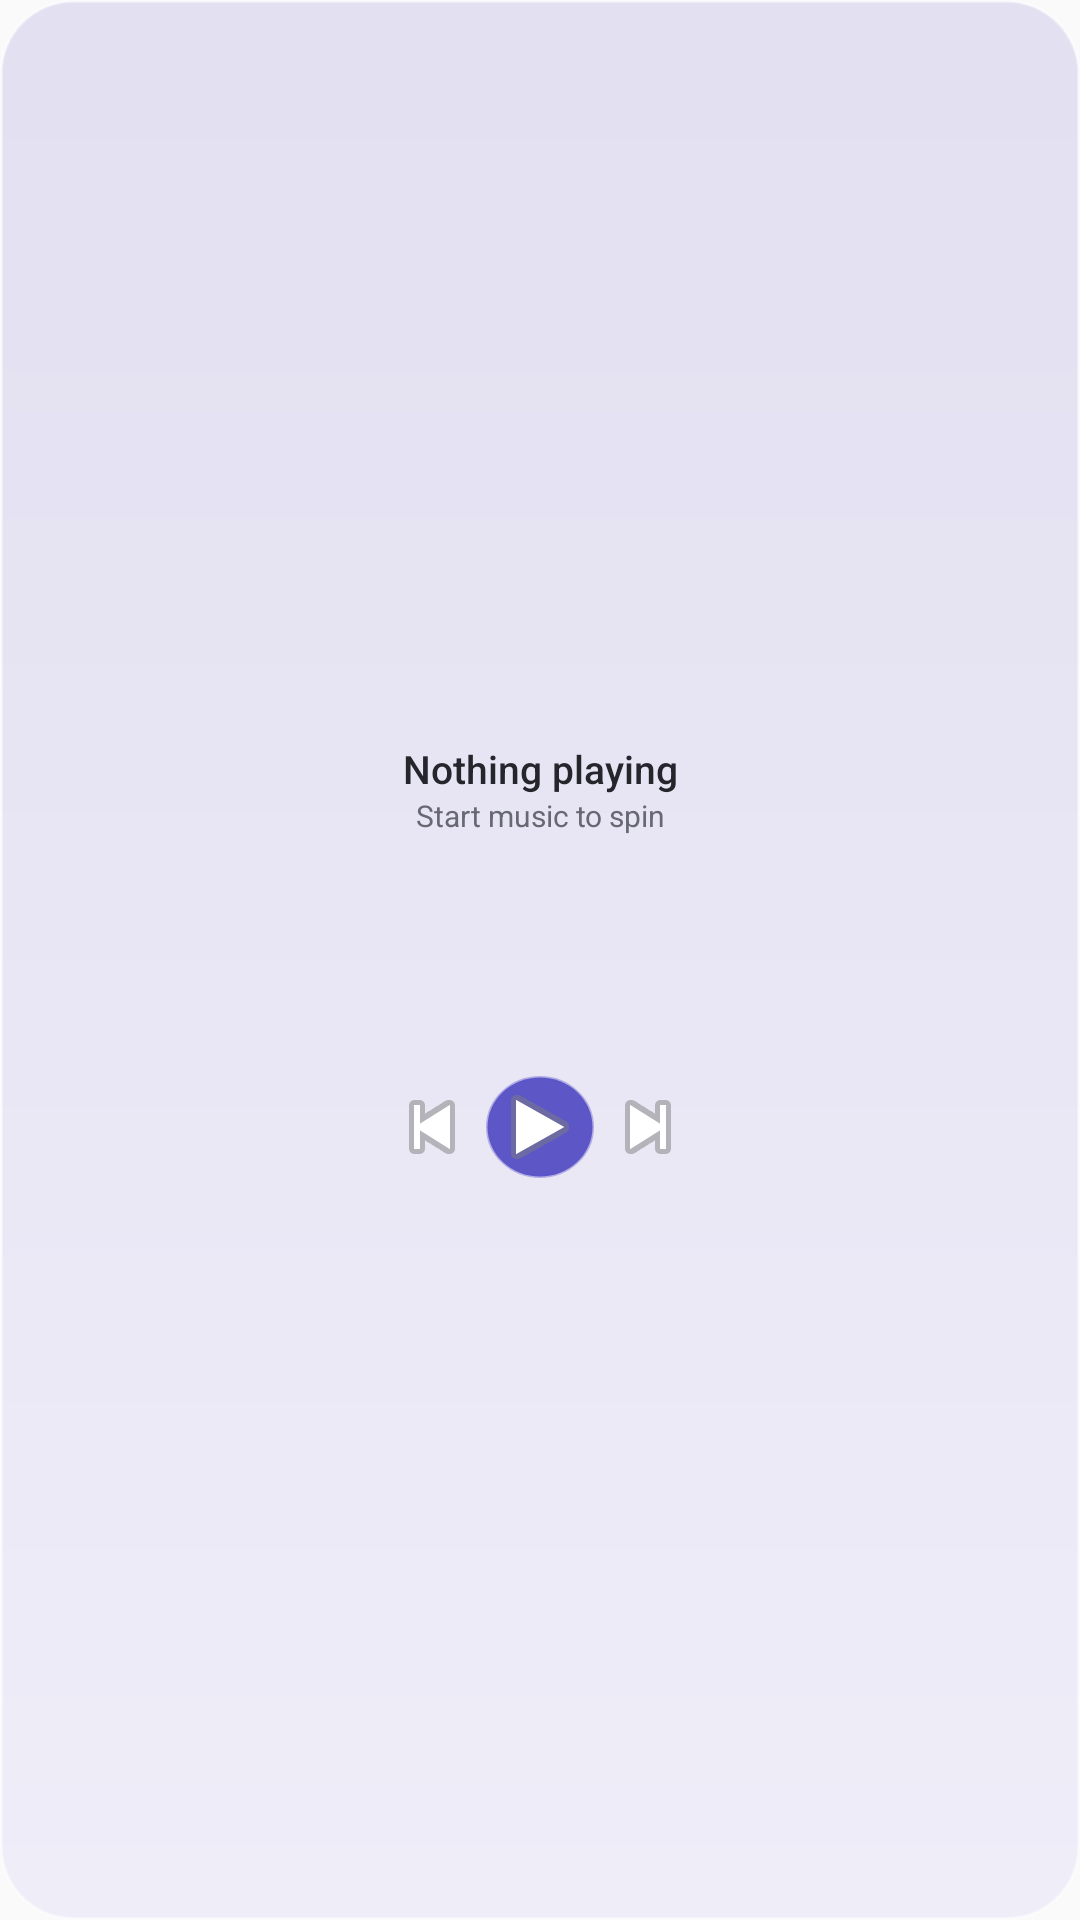

Screen size 1080 × 1920. Icon name, then its center in pixels as [x,y]:
Next track: [648,1127]
Play or pause: [540,1127]
Previous track: [432,1127]
